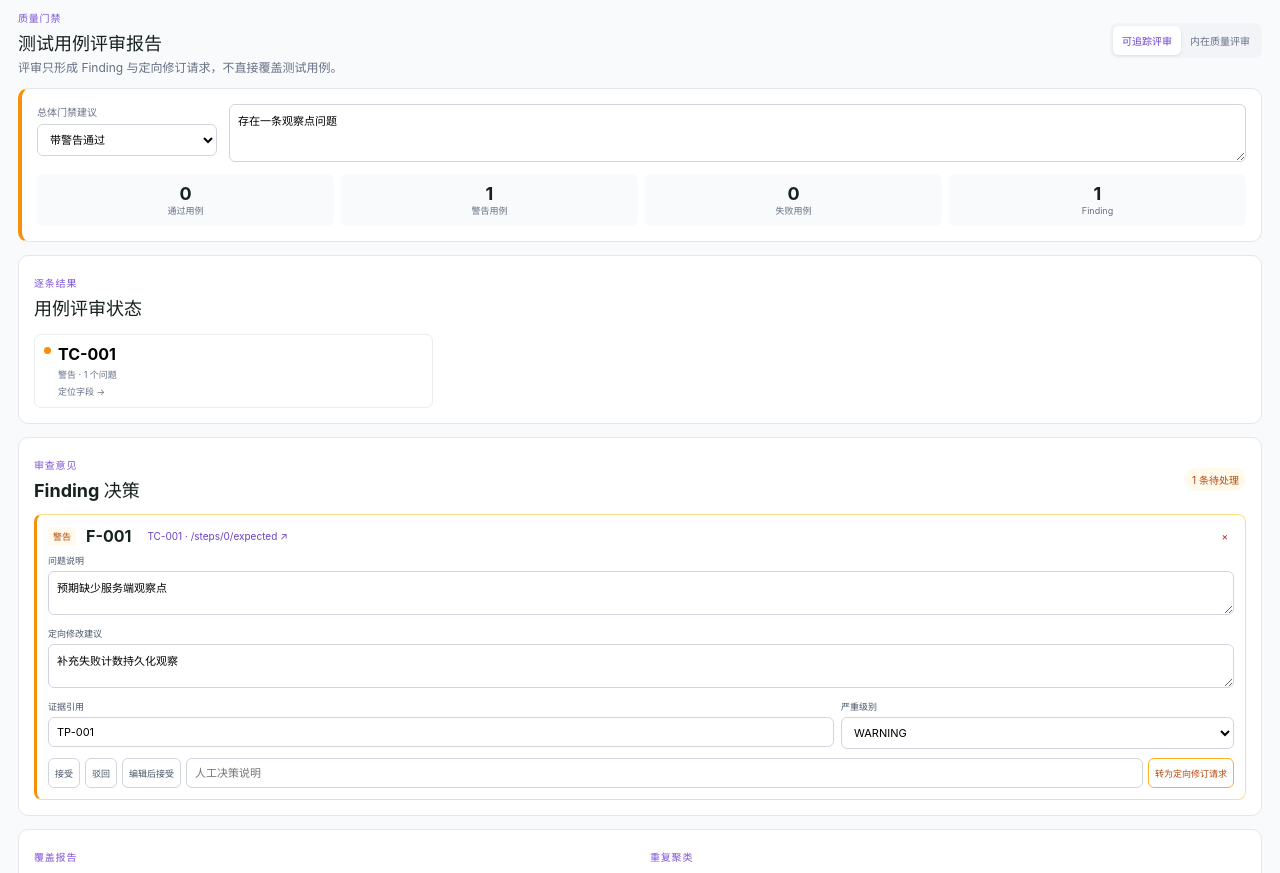
Test: CaseReviewEditor › 先形成修订请求，再由用户确认发起定向用例重生成
The image size is (1280, 873).
What coordinates should you click on to do the following:
click the button "转为定向修订请求"
I would click on:
 (1191, 773)
Its box is top-left (1148, 758), bottom-right (1234, 788).
(page scrolled)
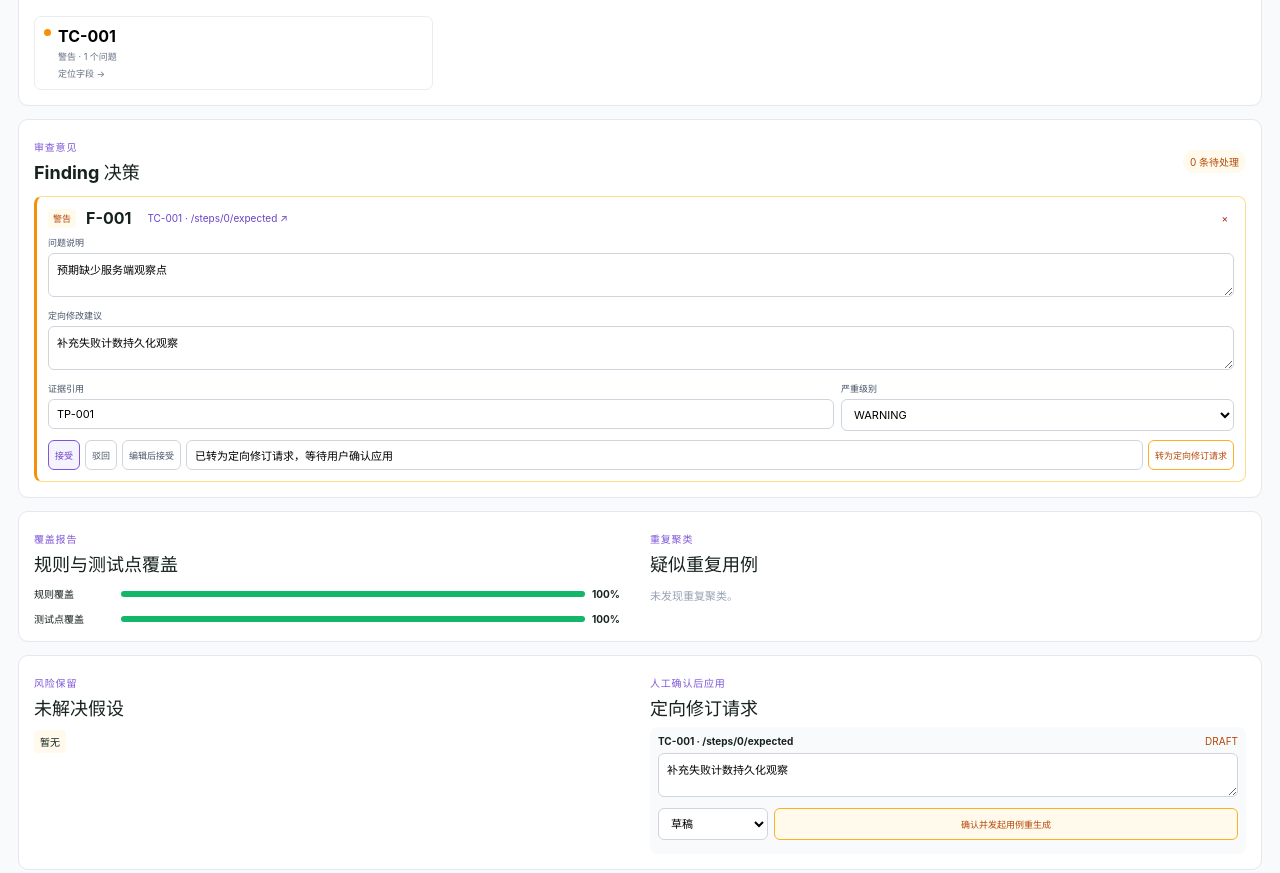
Expected: the button "确认并发起用例重生成" is shown
What coordinates should you click on to do the following:
click the button "确认并发起用例重生成"
I would click on:
 (1006, 824)
Its box is top-left (774, 808), bottom-right (1238, 840).
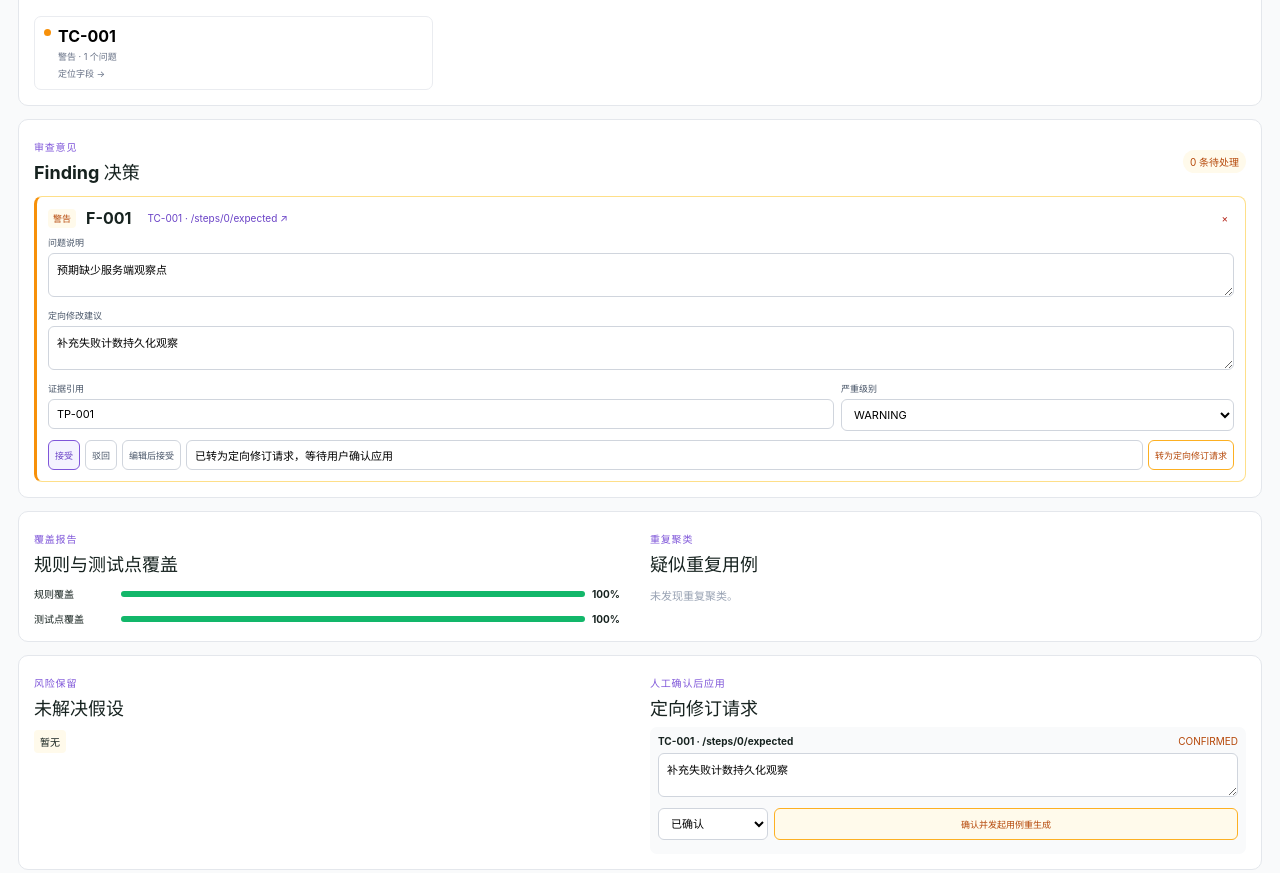
Expected: the text "CONFIRMED" is shown, top-left (1178, 735), bottom-right (1238, 747)
